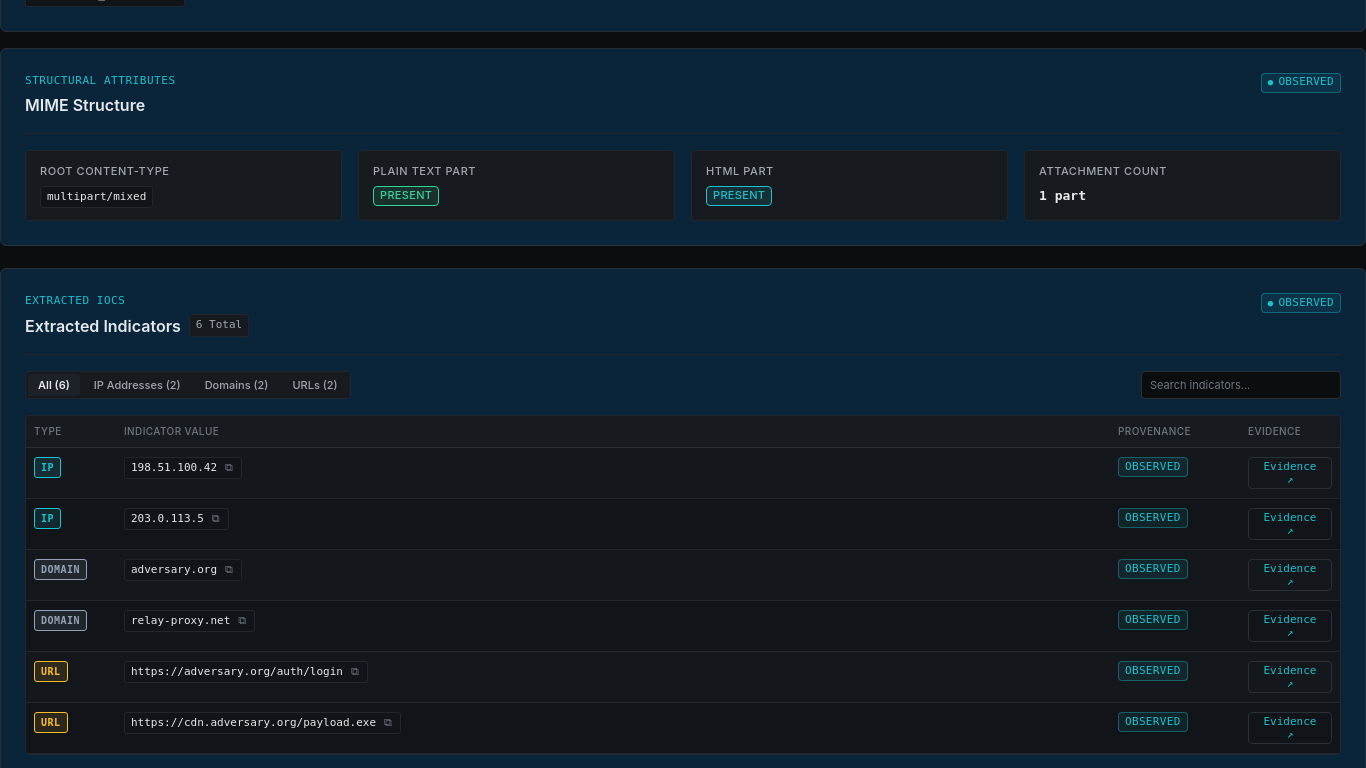
Test case: ParsedEmailWorkspace Component › H. renders network indicators with tabs and filtering
The image size is (1366, 768).
(page scrolled)
Expected: the text with test id "indicators-total-count" reads "6 Total", [189, 314, 249, 337]
Expected: the text "198.51.100.42" is shown, [131, 460, 217, 476]
// Switch to IP tab
Click the tab with test id "tab-ips".
click(137, 384)  # box [84, 374, 191, 396]
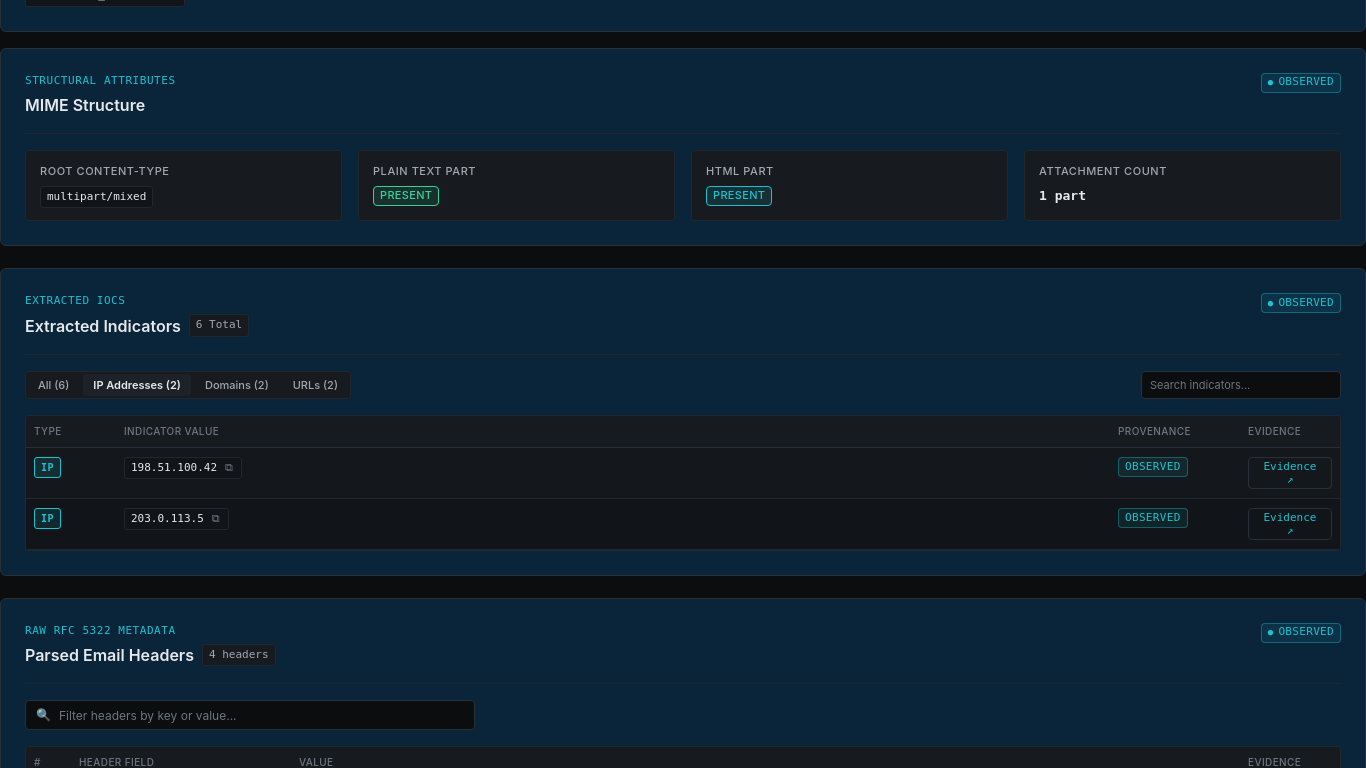
Expected: the text "198.51.100.42" is shown, [131, 460, 217, 476]
Now the text "https://adversary.org/auth/login" is gone
